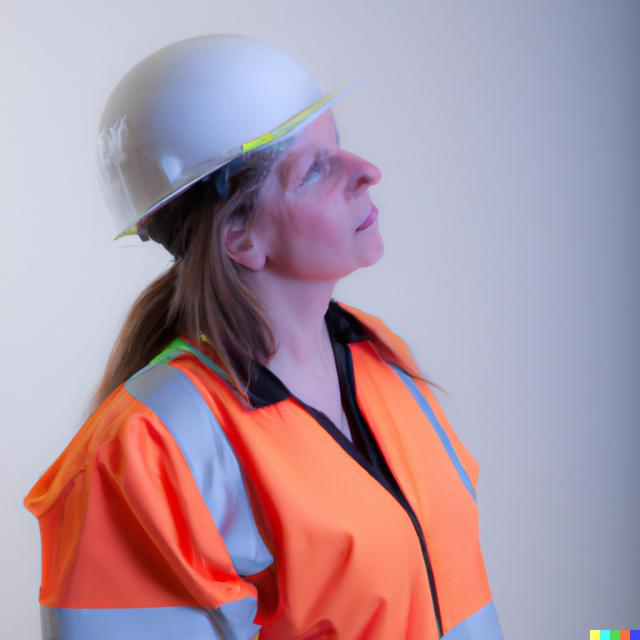Reflective-Jacket: (18, 311, 510, 628)
Safety-Helmet: (93, 34, 357, 240)
